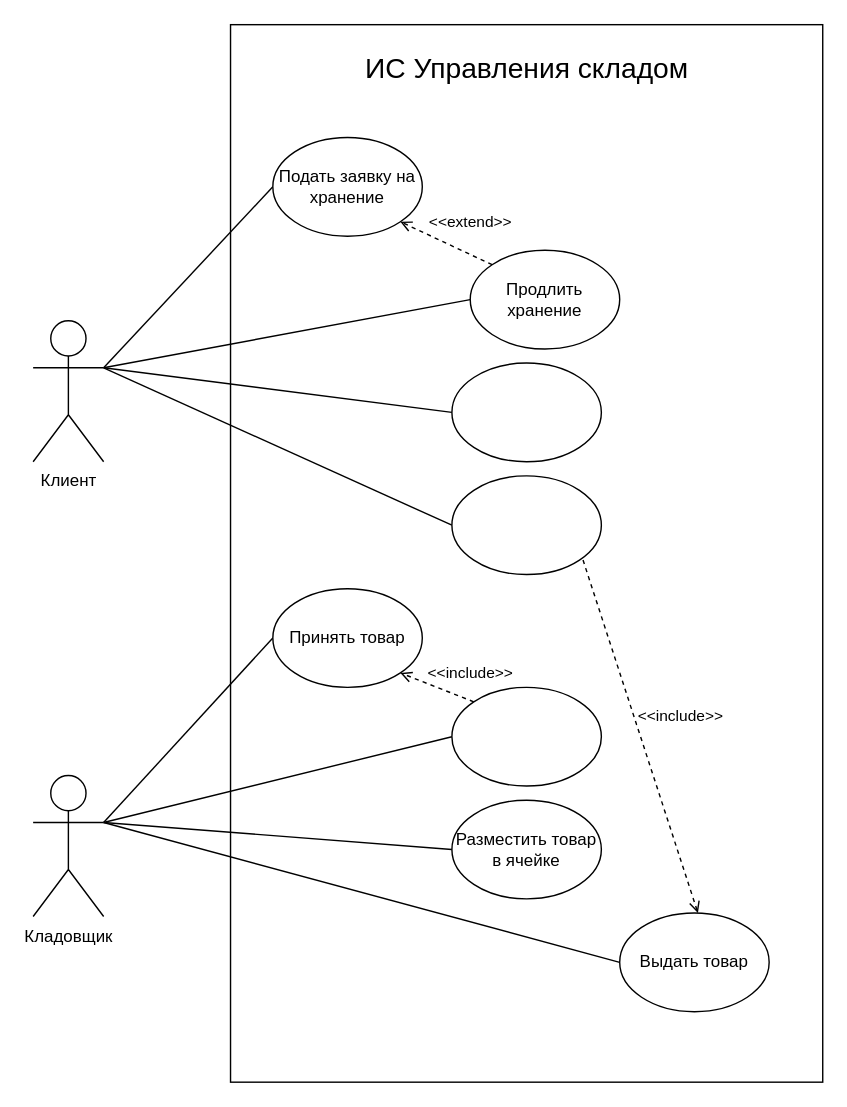
Some shapes in this 847 by 1107 pixel diagram are drawn without their labels. The shapes that lost their labels are listed below. From the top down, each one's centre as x and y in pixels, then its label:
the point at 525,412: Получить инфо о товаре
the point at 525,524: Забрать товар
the point at 525,736: Авторизация
